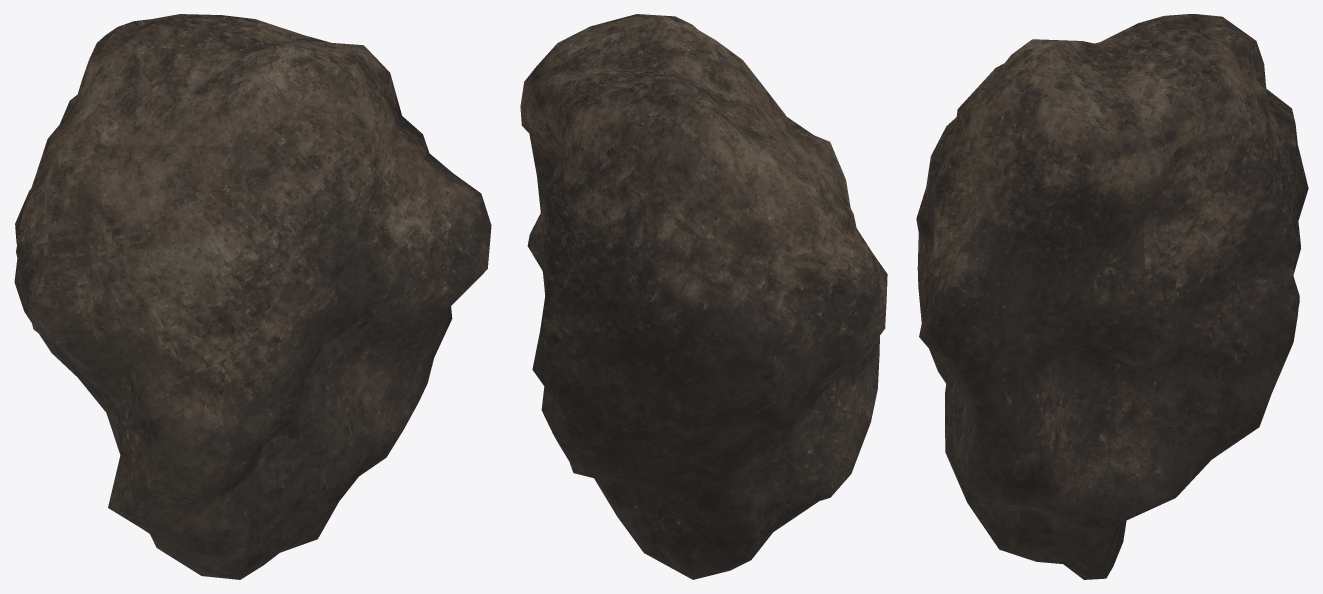
File: SM_RP2_Rock_4m_7.glb
3 renders of one model, left to right at view 1: azimuth 30°, elevation 25°; view 2: azimuth 150°, elevation 25°; view 3: azimuth 270°, elevation 25°, orthographic. The views are drawn at different scales.
Visible parts, largest first — view 1: SM_RP2_Rock_4m_7; view 2: SM_RP2_Rock_4m_7; view 3: SM_RP2_Rock_4m_7.
Boxes of the visible parts, bbox=[...] form: SM_RP2_Rock_4m_7: bbox=[14, 14, 491, 579]; SM_RP2_Rock_4m_7: bbox=[520, 14, 887, 579]; SM_RP2_Rock_4m_7: bbox=[916, 14, 1308, 579].
Size of the model in its own units: 5.02 by 6.51 by 4.15.
Materials: 1 (1 with a texture image).
